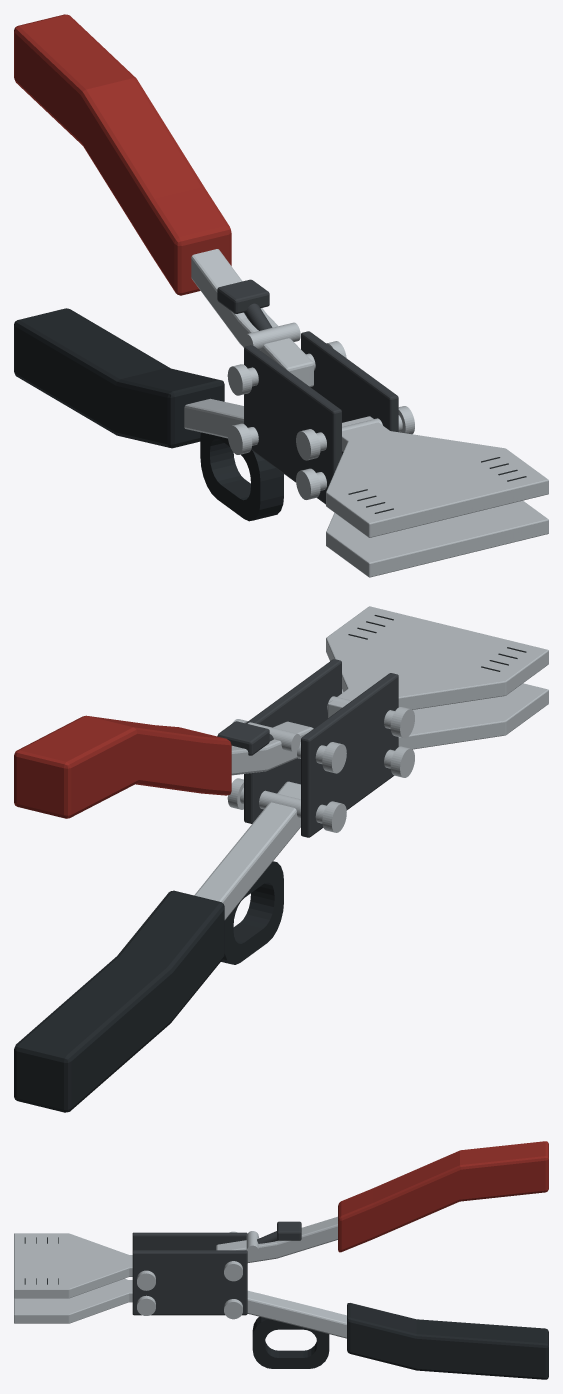
The model's file is full.fbx.
3 views of the same model, one above another, from view 1: azimuth 30°, elevation 25°; view 2: azimuth 150°, elevation 25°; view 3: azimuth 270°, elevation 25° (orthographic). The views are drawn at different scales.
Parts seen in each view (by area): view 1: Ergonomic raised upper grip, Upper broad jaw and shank, Ergonomic lower grip, Lower broad jaw and shank, Parallel link cheek -0.012, Lower finger stop oval opening, Parallel link cheek 0.012, Upper curved metal handle, Lower metal handle, Latch thumb tab, Upper neck latch pivot; view 2: Ergonomic lower grip, Ergonomic raised upper grip, Upper broad jaw and shank, Parallel link cheek -0.012, Lower broad jaw and shank, Lower metal handle, Parallel link cheek 0.012, Lower finger stop oval opening, Upper curved metal handle, Latch thumb tab, Compound transverse pivot 2, Rivet retaining disc (3, -0.02) (+3 smaller); view 3: Ergonomic raised upper grip, Ergonomic lower grip, Parallel link cheek 0.012, Upper broad jaw and shank, Lower broad jaw and shank, Lower metal handle, Lower finger stop oval opening, Upper curved metal handle, Parallel link cheek -0.012, Latch thumb tab, Rivet retaining disc (0, 0.02), Rivet retaining disc (2, 0.02) (+3 smaller).
Part boxes in pixels (x1=…): Ergonomic raised upper grip: x1=14, y1=14, x2=231, y2=295; Upper broad jaw and shank: x1=326, y1=416, x2=548, y2=537; Ergonomic lower grip: x1=14, y1=308, x2=224, y2=448; Lower broad jaw and shank: x1=326, y1=500, x2=548, y2=577; Parallel link cheek -0.012: x1=244, y1=345, x2=341, y2=504; Lower finger stop oval opening: x1=200, y1=432, x2=283, y2=521; Parallel link cheek 0.012: x1=301, y1=331, x2=398, y2=454; Upper curved metal handle: x1=191, y1=249, x2=313, y2=386; Lower metal handle: x1=184, y1=398, x2=243, y2=438; Latch thumb tab: x1=217, y1=279, x2=269, y2=313; Upper neck latch pivot: x1=244, y1=322, x2=300, y2=350; Ergonomic lower grip: x1=14, y1=890, x2=224, y2=1112; Ergonomic raised upper grip: x1=14, y1=715, x2=231, y2=818; Upper broad jaw and shank: x1=326, y1=606, x2=548, y2=717; Parallel link cheek -0.012: x1=301, y1=673, x2=398, y2=837; Lower broad jaw and shank: x1=342, y1=683, x2=548, y2=749; Lower metal handle: x1=194, y1=781, x2=300, y2=920; Parallel link cheek 0.012: x1=244, y1=659, x2=341, y2=823; Lower finger stop oval opening: x1=221, y1=861, x2=283, y2=964; Upper curved metal handle: x1=231, y1=721, x2=313, y2=775; Latch thumb tab: x1=217, y1=721, x2=269, y2=755; Compound transverse pivot 2: x1=240, y1=788, x2=326, y2=823; Rivet retaining disc (3, -0.02): x1=322, y1=742, x2=346, y2=773; Ergonomic raised upper grip: x1=338, y1=1141, x2=548, y2=1252; Ergonomic lower grip: x1=347, y1=1303, x2=548, y2=1379; Parallel link cheek 0.012: x1=132, y1=1250, x2=247, y2=1315; Upper broad jaw and shank: x1=14, y1=1233, x2=132, y2=1298; Lower broad jaw and shank: x1=14, y1=1278, x2=132, y2=1323; Lower metal handle: x1=247, y1=1290, x2=346, y2=1338; Lower finger stop oval opening: x1=252, y1=1316, x2=329, y2=1368; Upper curved metal handle: x1=216, y1=1216, x2=337, y2=1262; Parallel link cheek -0.012: x1=132, y1=1232, x2=247, y2=1250; Latch thumb tab: x1=277, y1=1221, x2=301, y2=1240; Rivet retaining disc (0, 0.02): x1=137, y1=1295, x2=155, y2=1315; Rivet retaining disc (2, 0.02): x1=224, y1=1299, x2=242, y2=1319.
Bounding box in the file's own units: 7.62 × 14.16 × 30.7.
